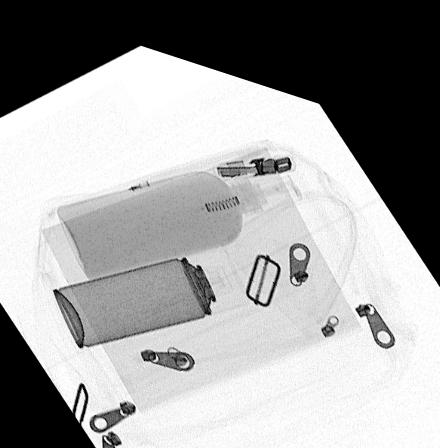Sprayer: (48, 229, 250, 346)
